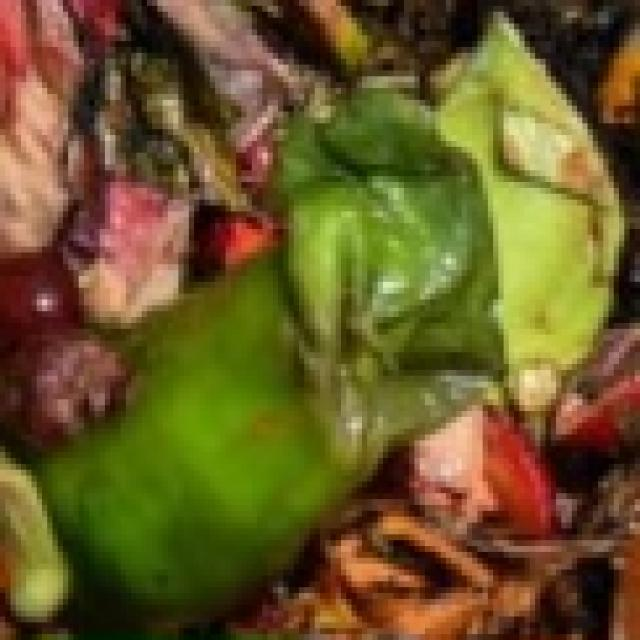food waste: (22, 0, 640, 617)
